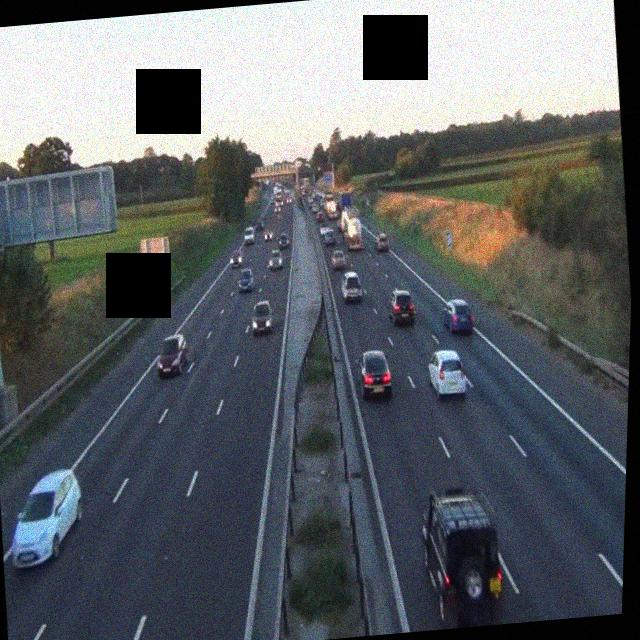car: (417, 484, 509, 630), (4, 468, 88, 568), (427, 347, 468, 398), (356, 348, 394, 399), (155, 331, 191, 376), (439, 295, 475, 336), (386, 286, 416, 326), (250, 300, 274, 334), (340, 270, 363, 302), (236, 266, 255, 292), (331, 246, 348, 268), (374, 231, 391, 250), (269, 248, 283, 269), (322, 228, 336, 246), (230, 249, 243, 266), (243, 225, 256, 242), (278, 232, 289, 250), (320, 220, 331, 236), (262, 226, 272, 240)
truck: (339, 202, 365, 252), (323, 188, 341, 221), (337, 188, 355, 220)
